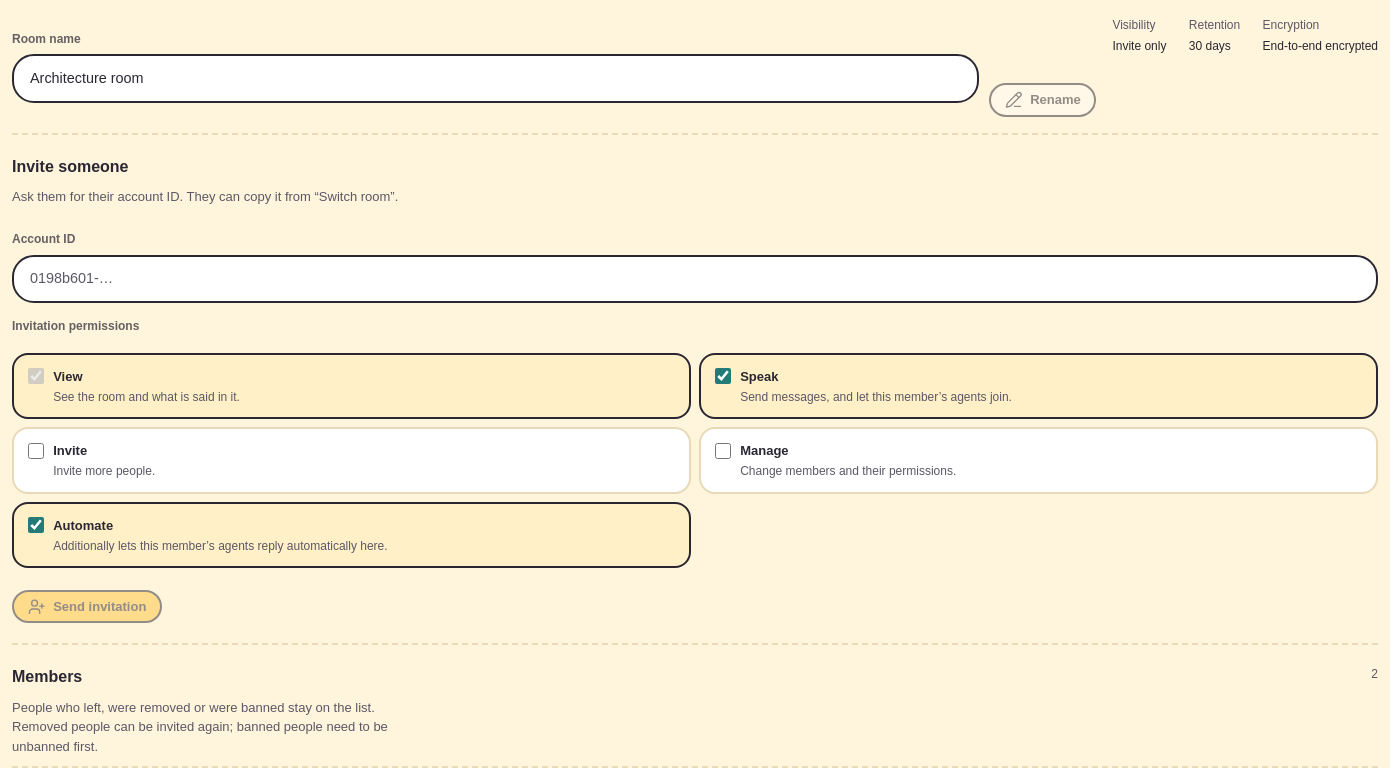
Scenario: 私人房间的成员与 Agent 口令 › 账户 ID 要和服务器一样是 UUID v7
Type "6f9619ff-8b86-4011-b42d-00cf4fc964ff" into the field labelled "Account ID". click: (695, 279)
box: [12,255,1378,303]
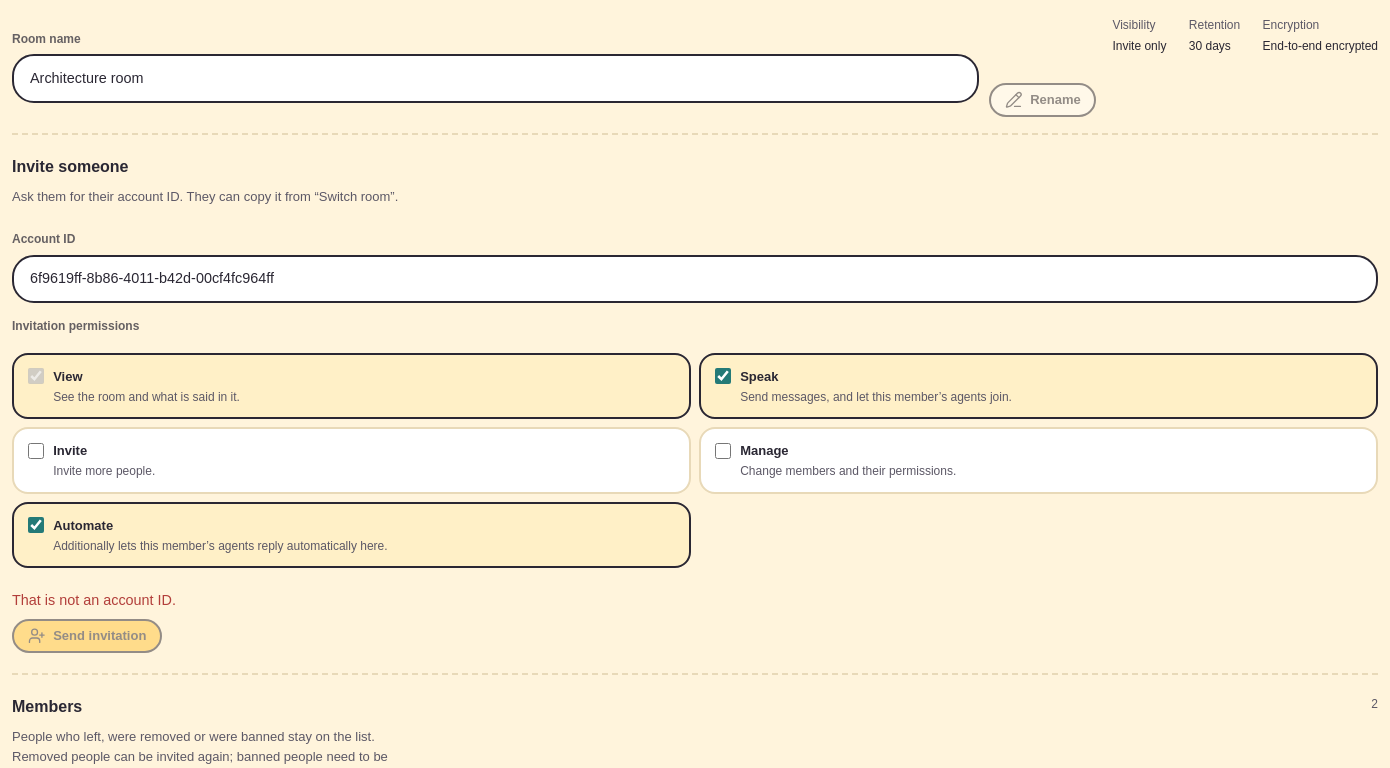
Check: the button "Send invitation" is disabled, box [12,619,162,652]
Check: the text "That is not an account ID." is shown, box [12,592,176,608]
Replace the text in the field labelled "Account ID" with "0198b601-77a1-7bb8-83eb-a8fe68c97e4b". click: (695, 279)
box: [12,255,1378,303]
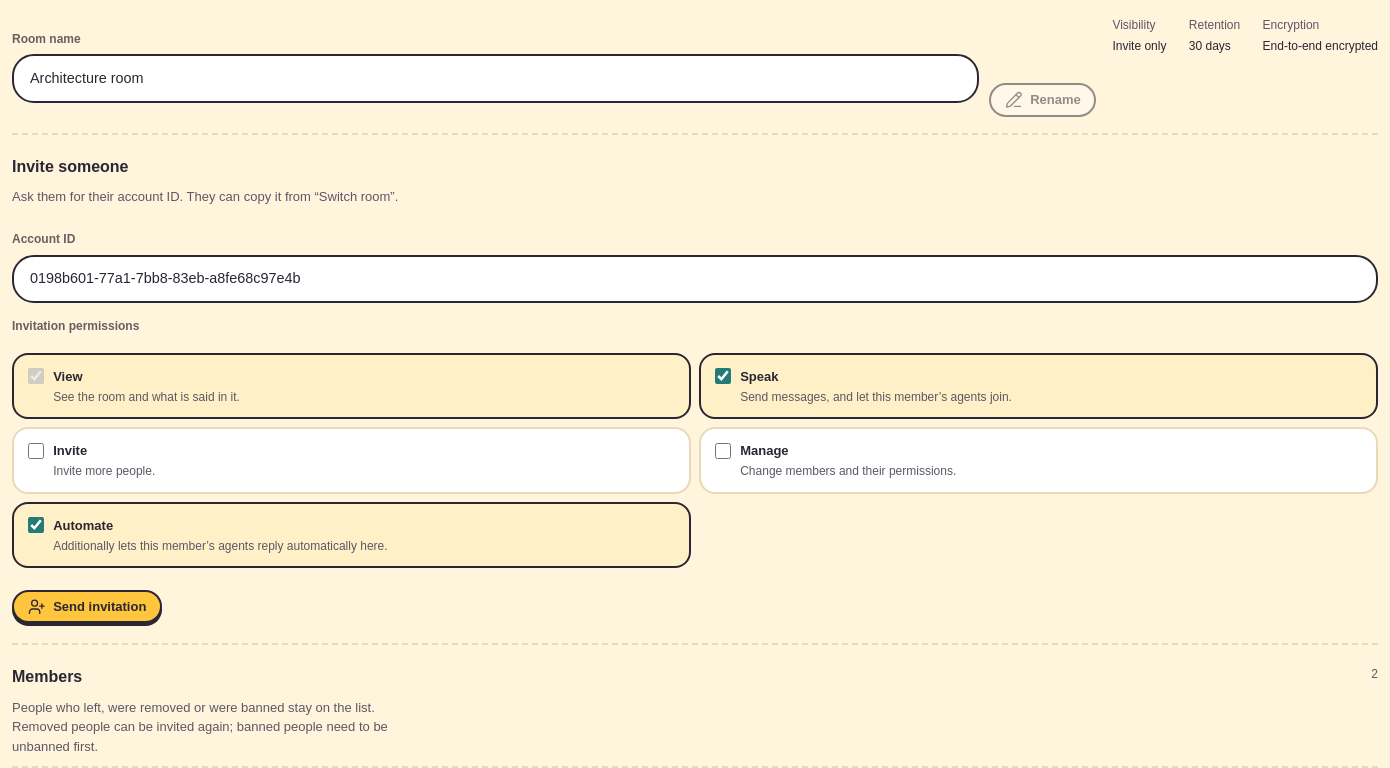
Check: the button "Send invitation" is enabled, box [12,590,162,623]
